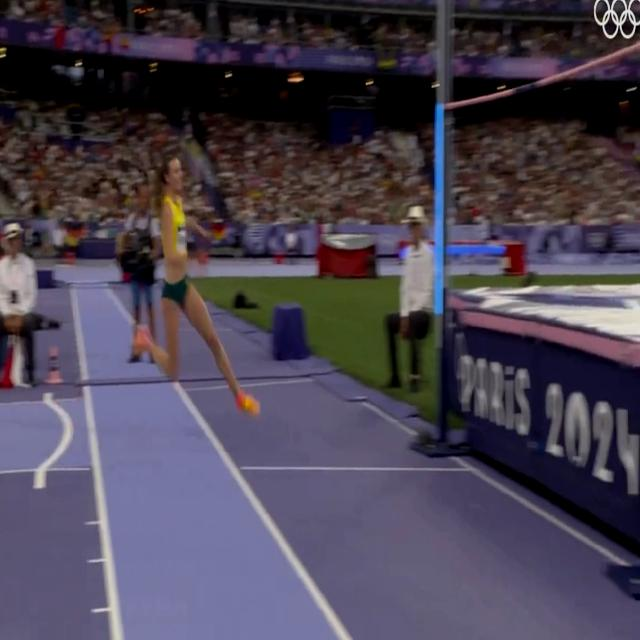run: (132, 155, 261, 416)
